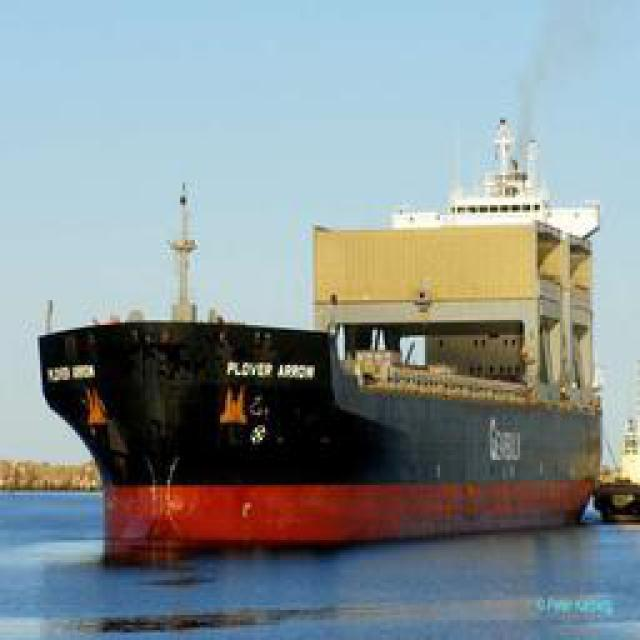Ship: (37, 294, 595, 549)
